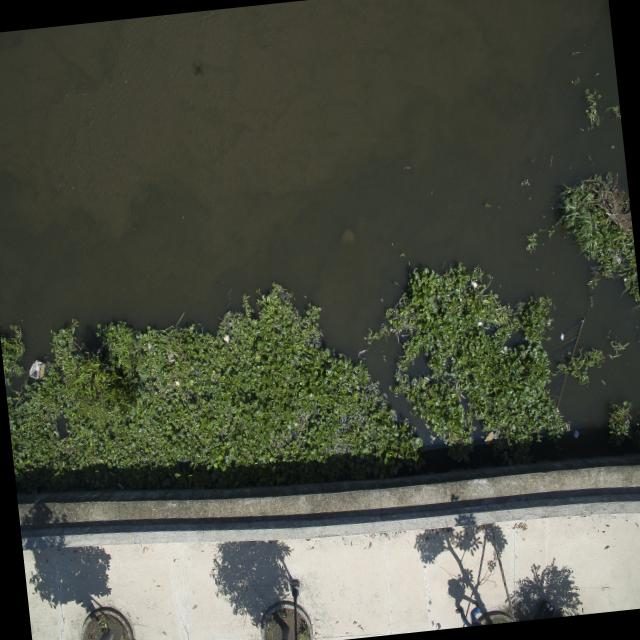Plastic: (28, 361, 48, 379), (482, 430, 496, 446), (220, 334, 232, 344), (573, 428, 580, 440), (499, 346, 508, 354), (167, 354, 174, 364), (146, 342, 153, 350), (560, 332, 565, 343)
